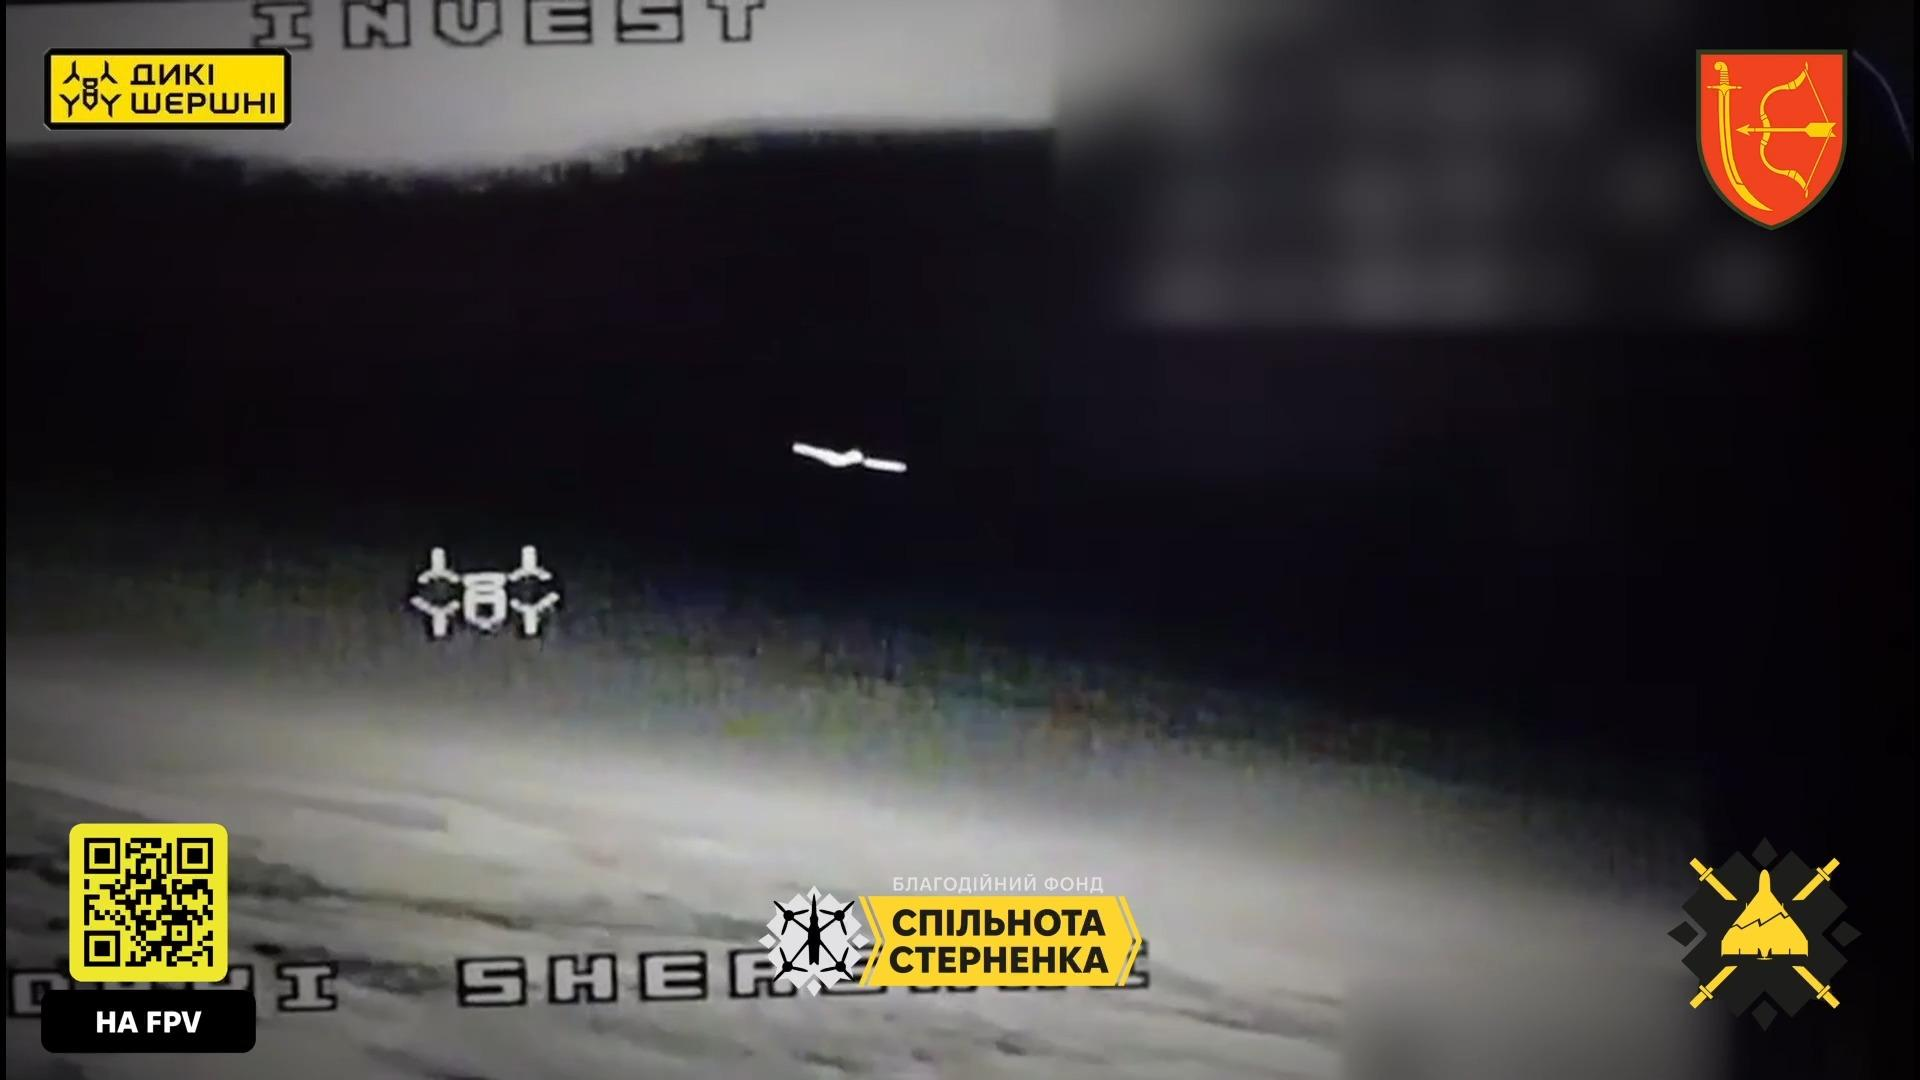Gerbera: (790, 443, 907, 475)
